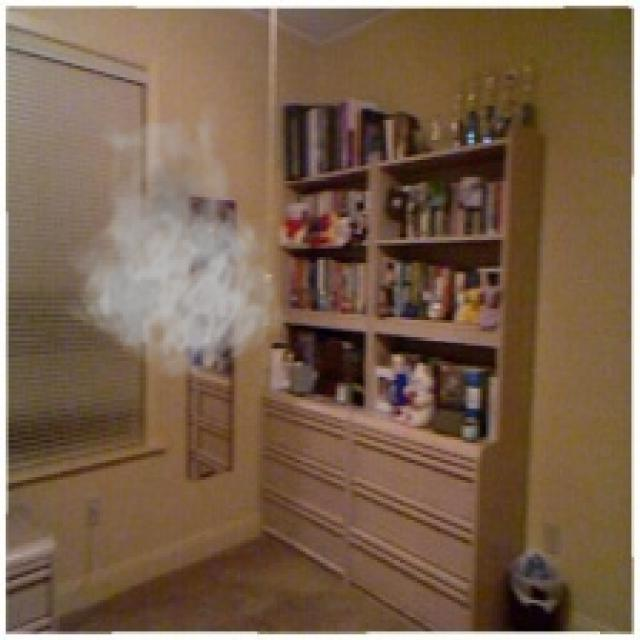smoke: (60, 97, 289, 380)
